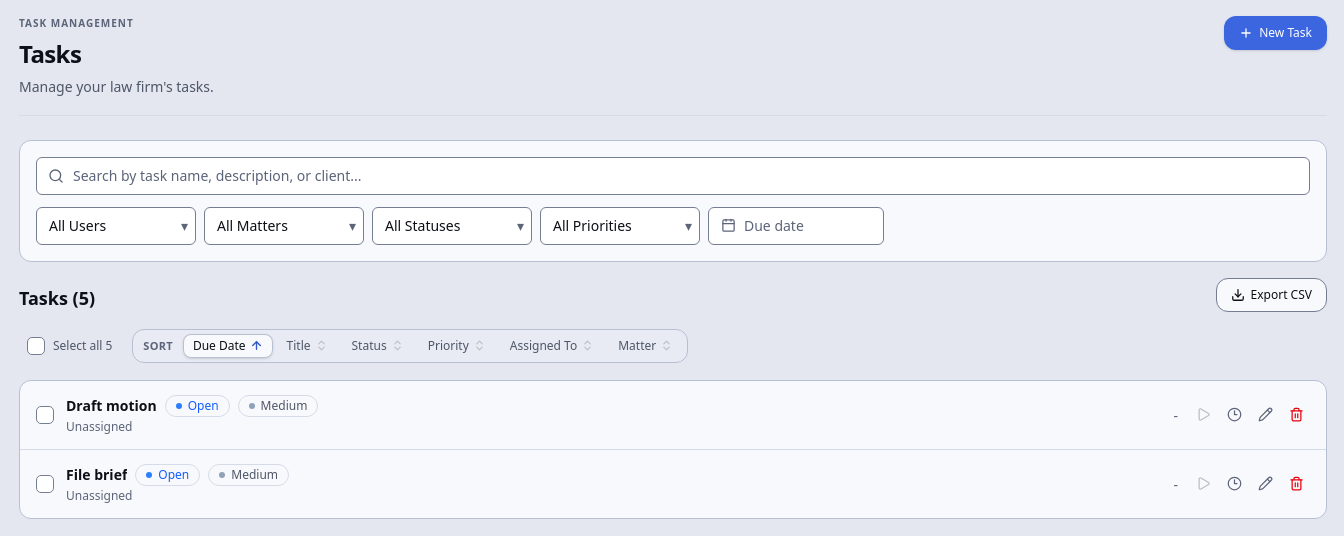
TasksGrid › select all › clears the selection when the control is toggled off
The image size is (1344, 536).
Click the checkbox labelled "Select all 5": (70, 346) [19, 331, 120, 361]
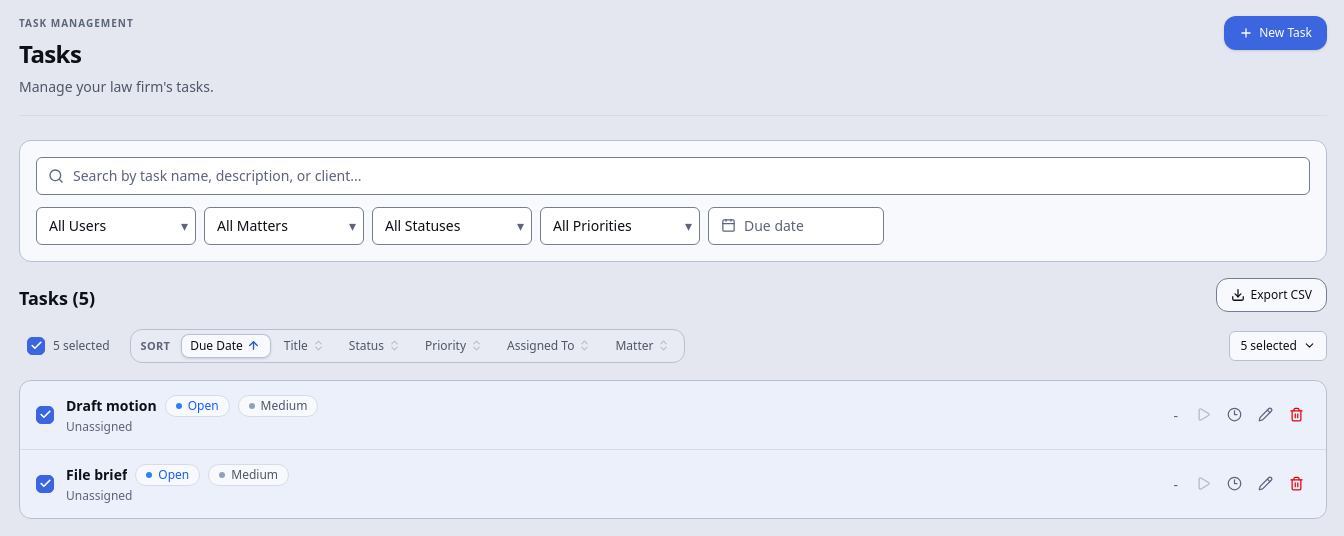
Click the checkbox labelled "5 selected": (68, 346) [19, 331, 118, 361]
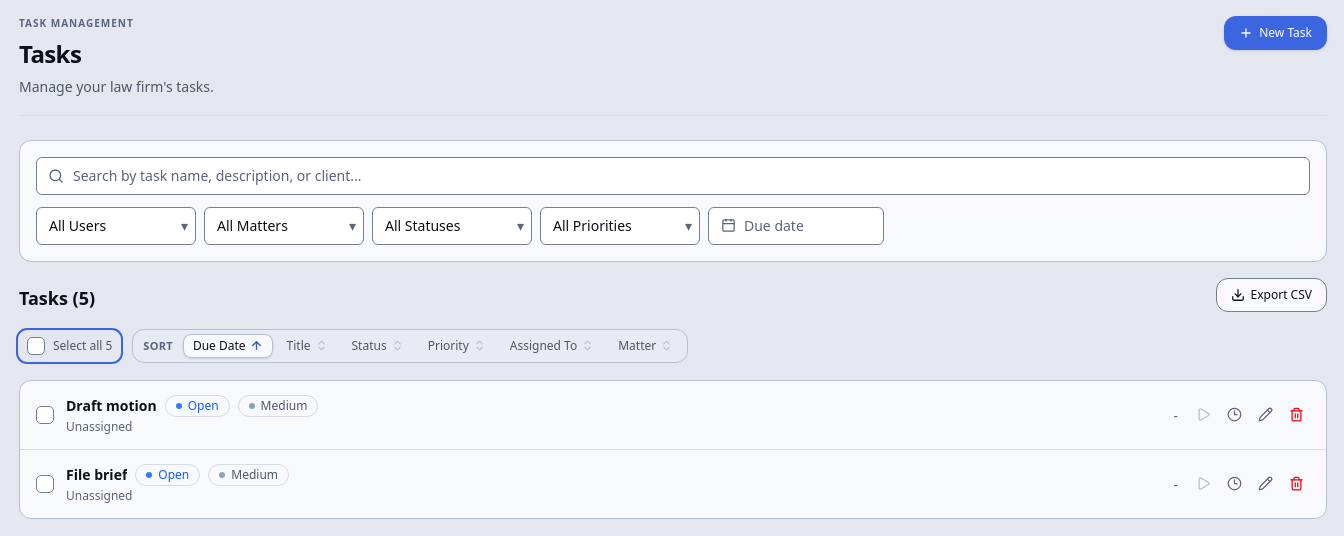
expect no checkboxes labelled "5 selected" are shown: met
